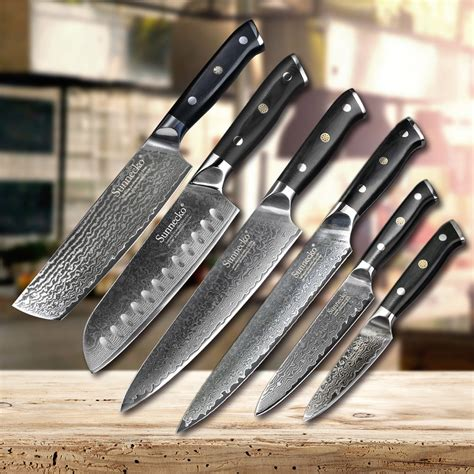knife: (119, 87, 367, 411), (176, 117, 426, 431), (10, 18, 263, 323), (81, 53, 310, 374), (253, 178, 438, 413), (300, 219, 465, 421)
